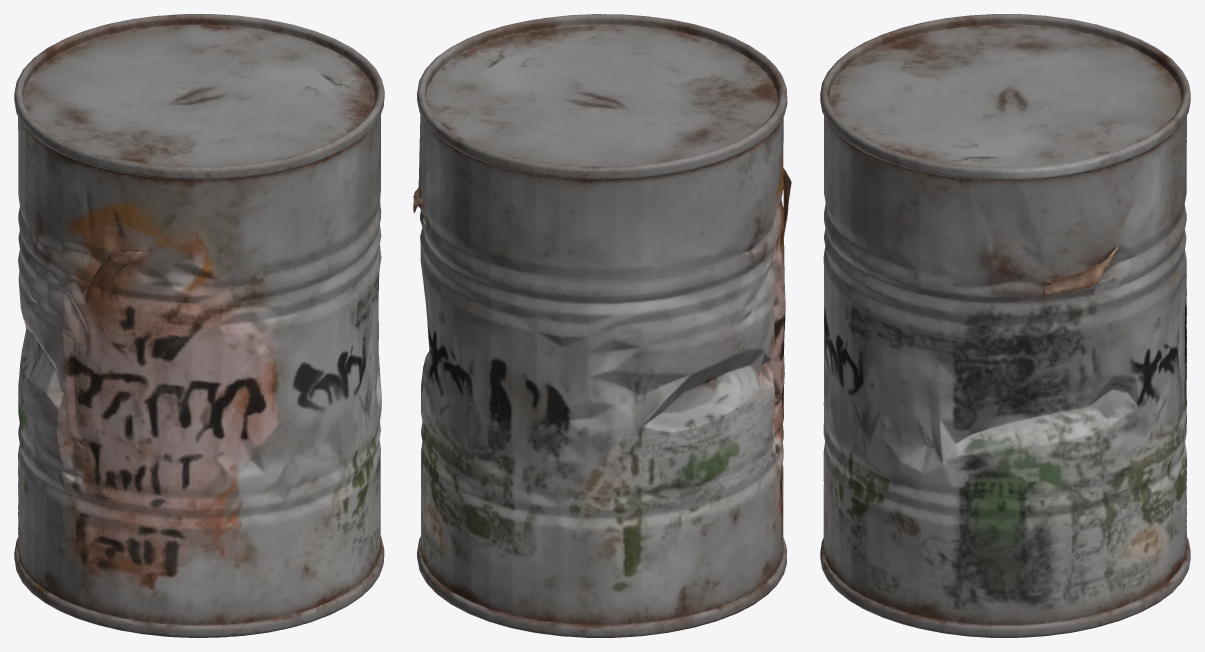
The model's file is y2k_beans.glb.
3 renders of one model, left to right at view 1: azimuth 30°, elevation 25°; view 2: azimuth 150°, elevation 25°; view 3: azimuth 270°, elevation 25°, orthographic.
Visible parts, largest first — view 1: world; view 2: world; view 3: world.
Boxes of the visible parts, x1=… form: world: x1=14, y1=14, x2=384, y2=637; world: x1=413, y1=14, x2=791, y2=637; world: x1=820, y1=14, x2=1190, y2=637.
Size of the model in its own units: 0.7155 by 1 by 0.7152.
Materials: 1 (1 with a texture image).
